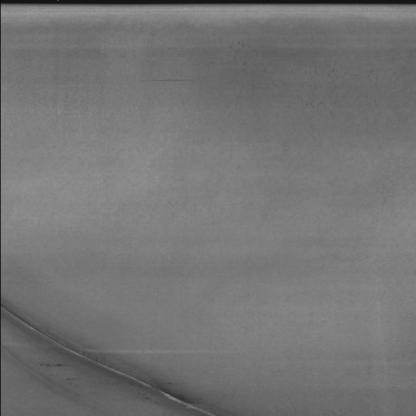crease: (10, 288, 281, 412)
